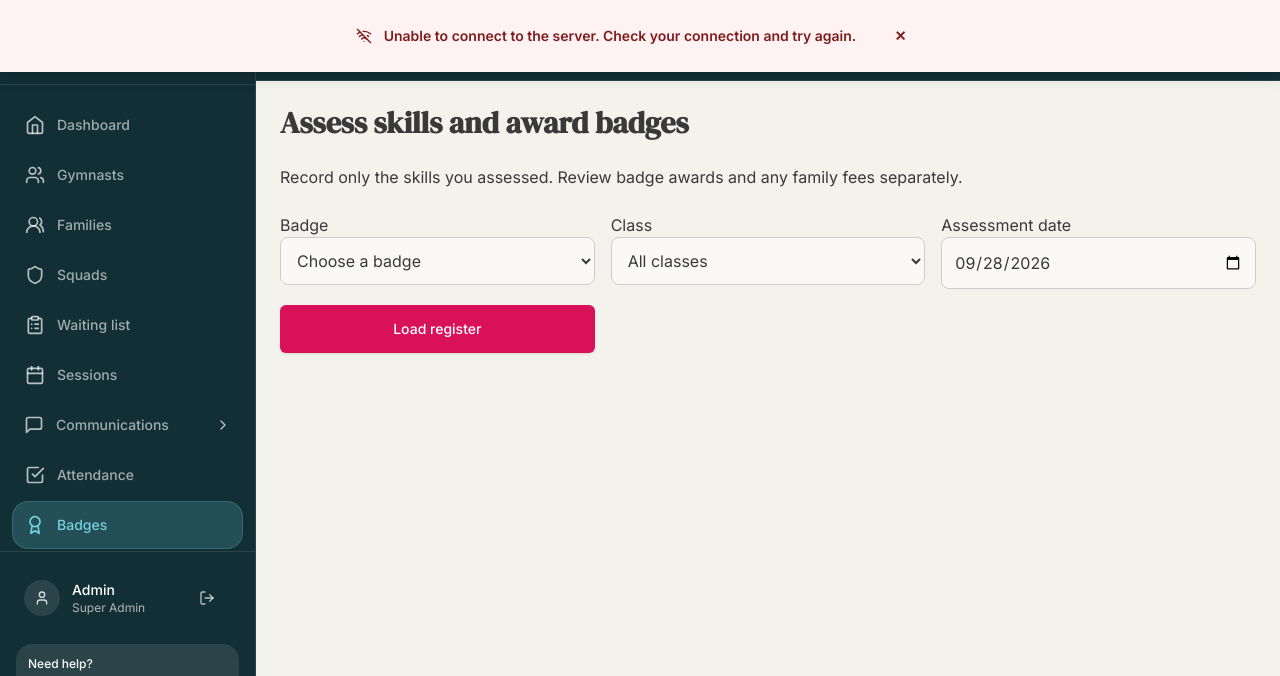
Scenario: Assessment flow › leaves every result unchanged until the coach explicitly chooses one
This screenshot has width=1280, height=676.
Select "British Gymnastics Rise: Explore 3" in the dropdown labelled "Badge" at {"x": 437, "y": 261}, box [280,237,595,285]
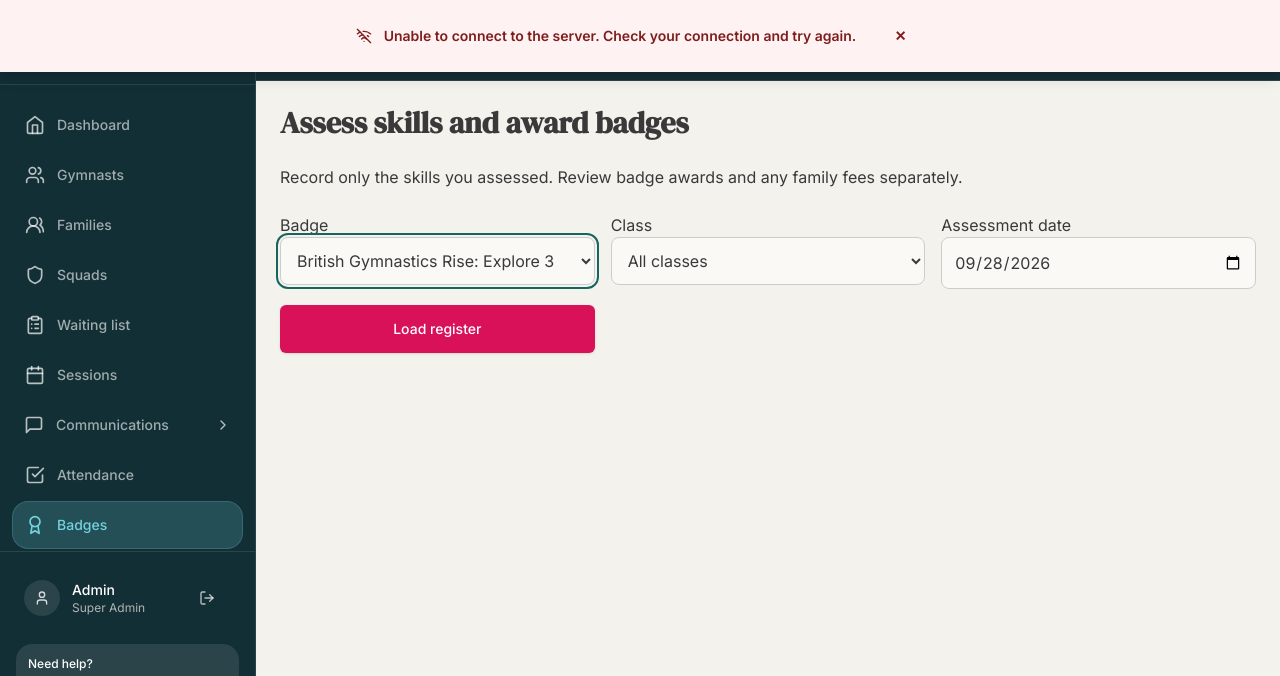
Click the button "Load register" at {"x": 437, "y": 329}, box [280,305,595,353]
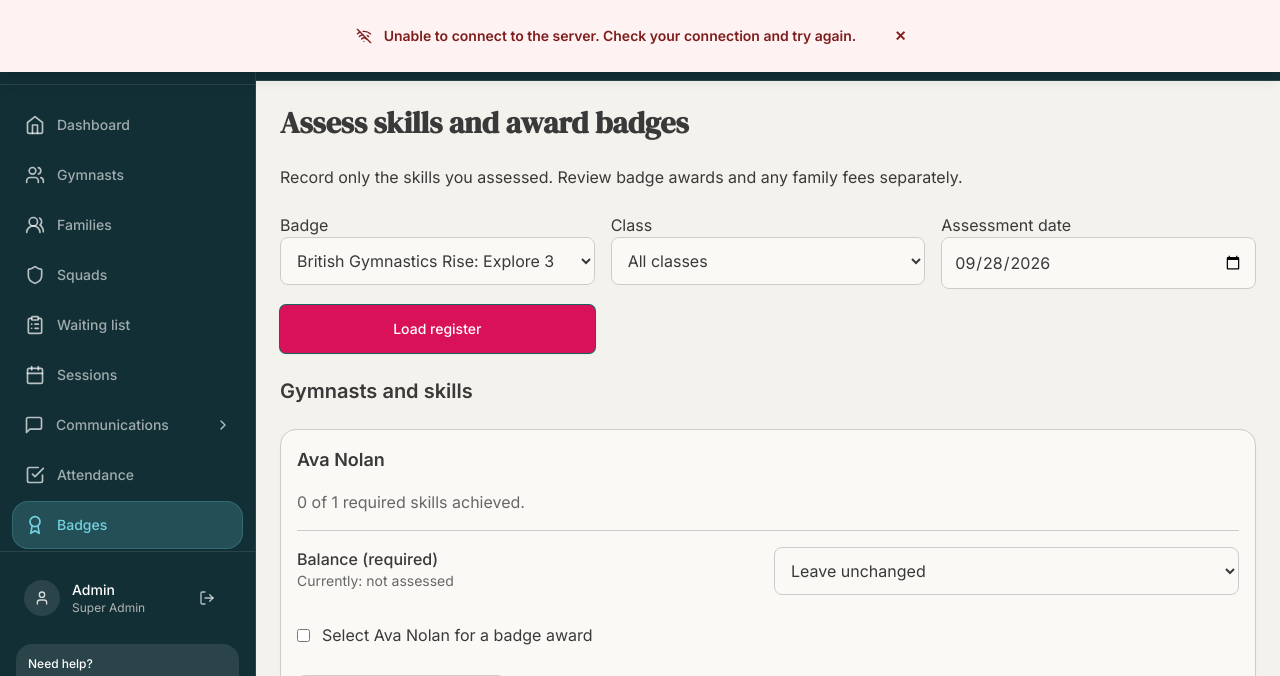
Expected: the heading "Ava Nolan" is shown, [297,449,385,470]
Expected: the dropdown named "Ava Nolan: Balance" is enabled, [774,547,1239,595]
Expected: the dropdown named "Ava Nolan: Balance" shows "Leave unchanged", [774,547,1239,595]
